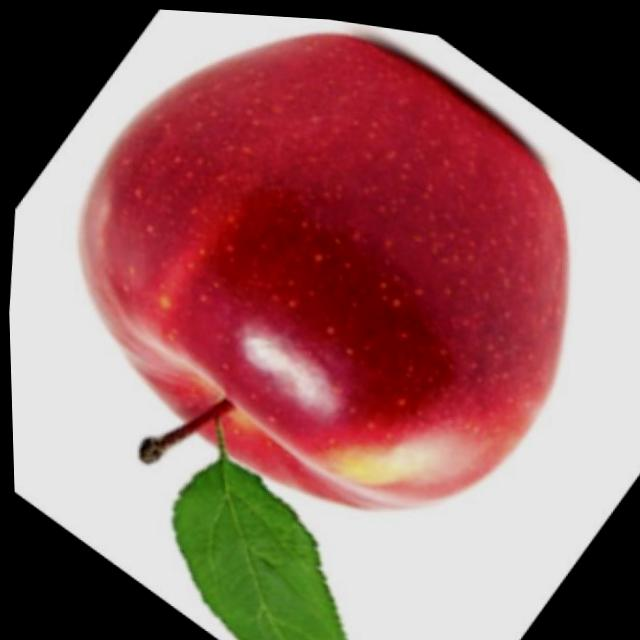Apple: (49, 2, 591, 533)
